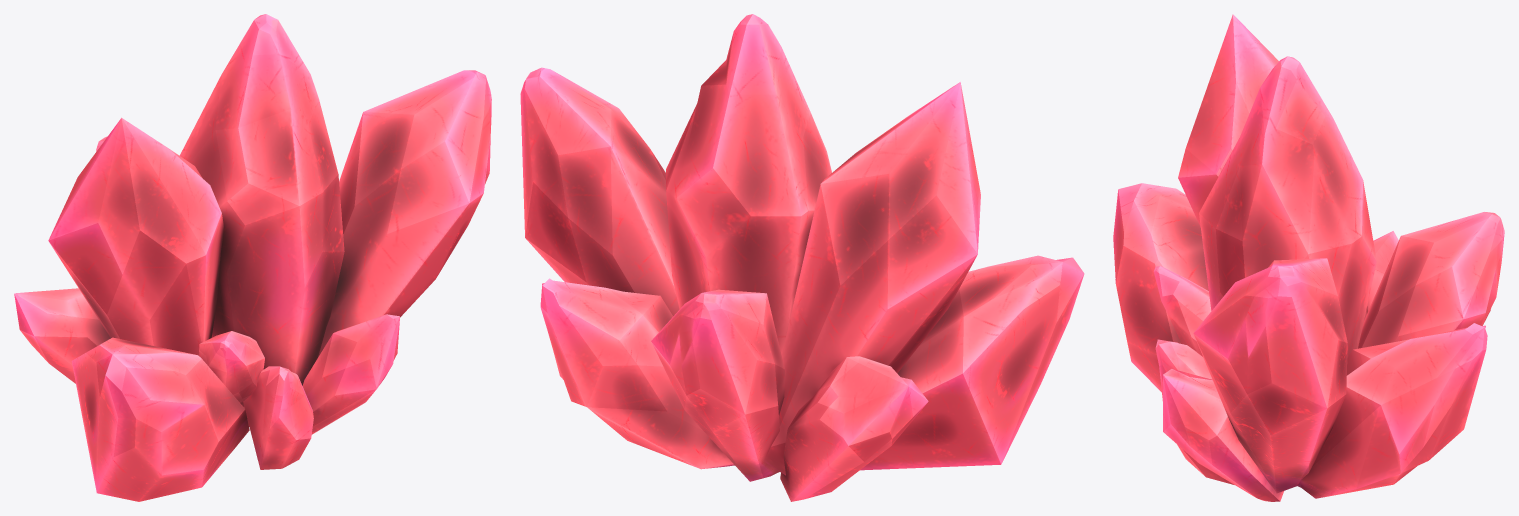
File: lgRed.gltf
The picture shows the model from 3 angles, left to right: view 1: azimuth 30°, elevation 25°; view 2: azimuth 150°, elevation 25°; view 3: azimuth 270°, elevation 25°; orthographic projection. The views are drawn at different scales.
Visible parts, largest first — view 1: Object_4; view 2: Object_4; view 3: Object_4.
Boxes of the visible parts, bbox=[...] form: Object_4: bbox=[14, 14, 491, 501]; Object_4: bbox=[520, 14, 1084, 501]; Object_4: bbox=[1113, 14, 1504, 501].
Size of the model in its own units: 2.77 by 2.46 by 2.
1 material, 1 textured.
